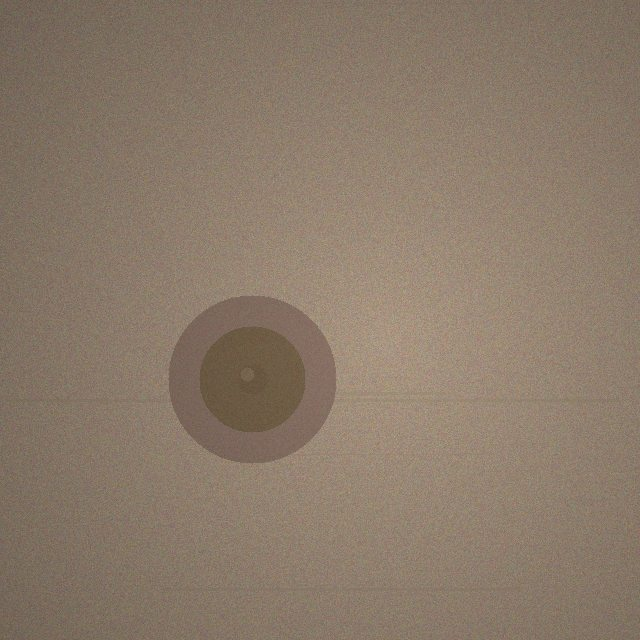good: (168, 295, 336, 463)
